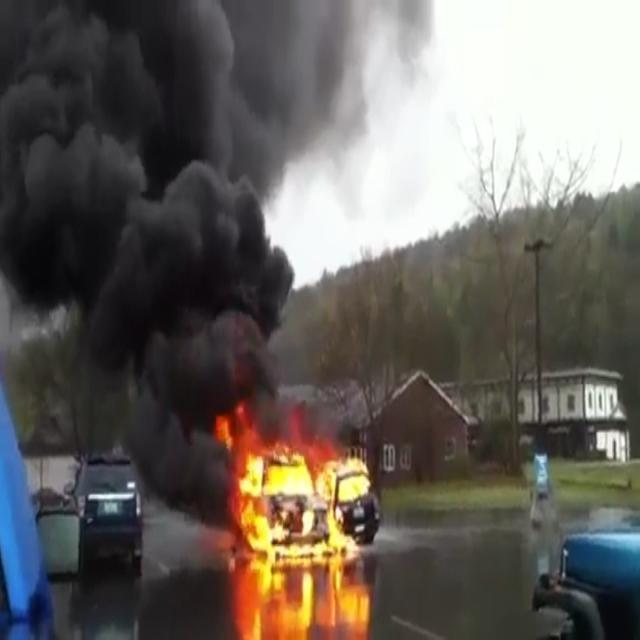fire: (223, 426, 314, 558), (316, 432, 364, 556)
